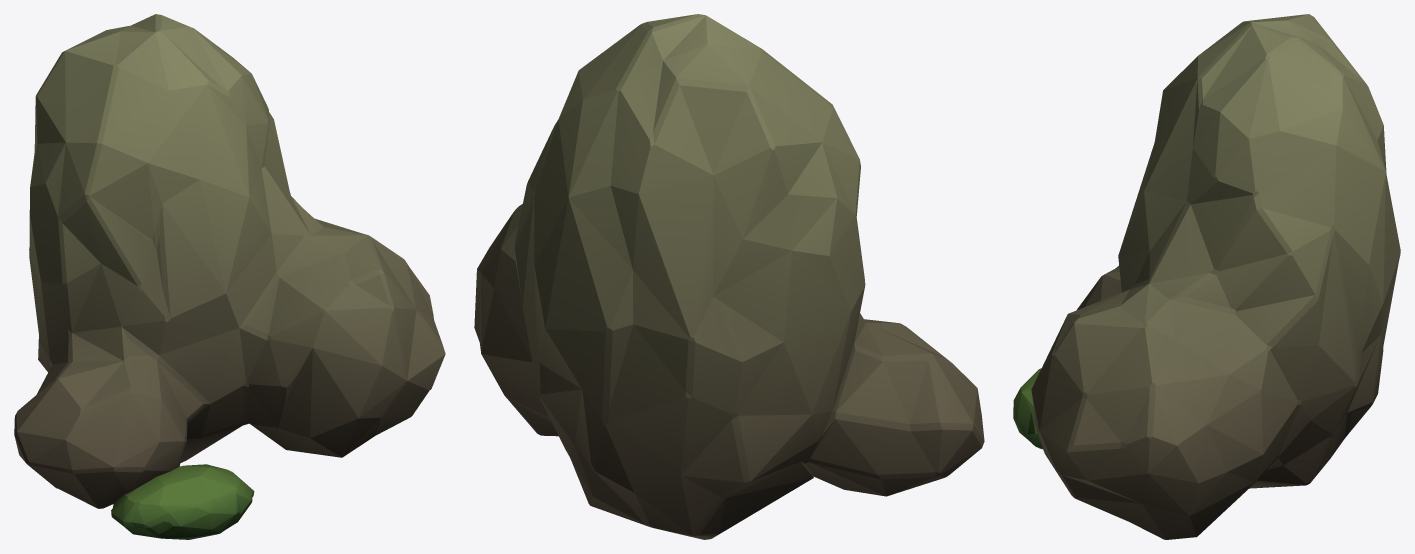
File: skala_1_3.glb
3 views of the same model, side by side, from view 1: azimuth 30°, elevation 25°; view 2: azimuth 150°, elevation 25°; view 3: azimuth 270°, elevation 25° (orthographic). The views are drawn at different scales.
Parts seen in each view (by area): view 1: skala_1_3; view 2: skala_1_3; view 3: skala_1_3.
Boxes of the visible parts, x1=… form: skala_1_3: x1=14, y1=14, x2=445, y2=539; skala_1_3: x1=474, y1=14, x2=984, y2=539; skala_1_3: x1=1013, y1=14, x2=1400, y2=539.
Size of the model in its own units: 1.36 by 1.38 by 1.06.
